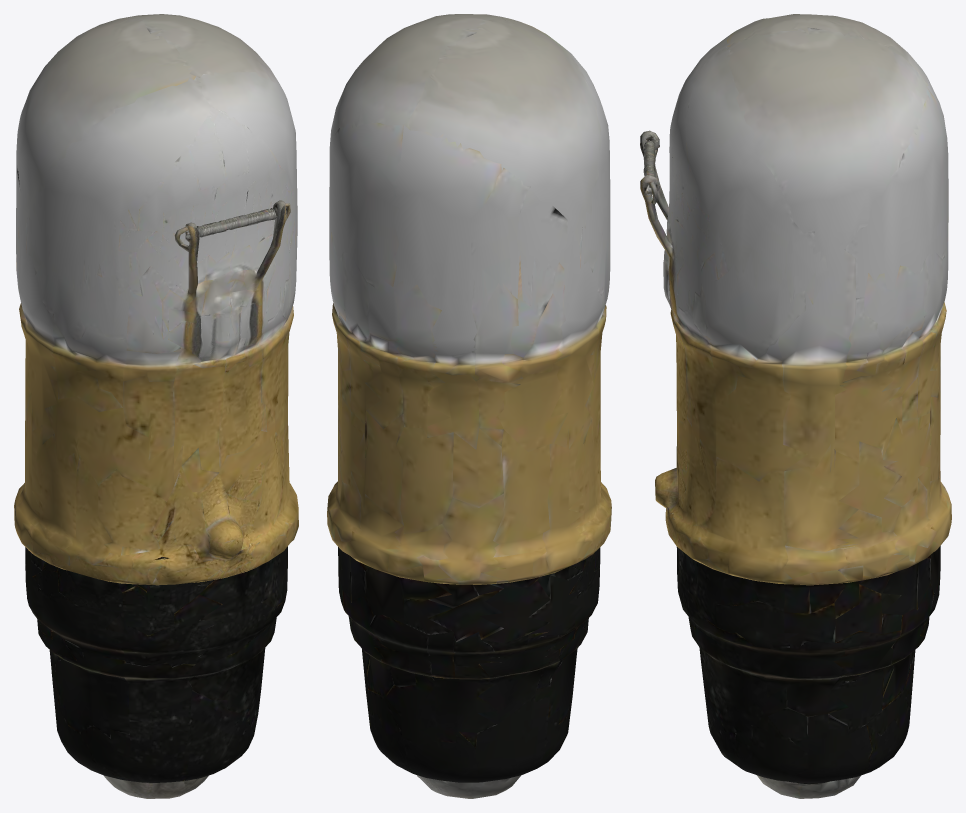
Rendered from bombilla.glb.
The picture shows the model from 3 angles, left to right: view 1: azimuth 30°, elevation 25°; view 2: azimuth 150°, elevation 25°; view 3: azimuth 270°, elevation 25°; orthographic projection.
Size of the model in its own units: 0.6532 by 1.9 by 0.7115.
1 material, 1 textured.
